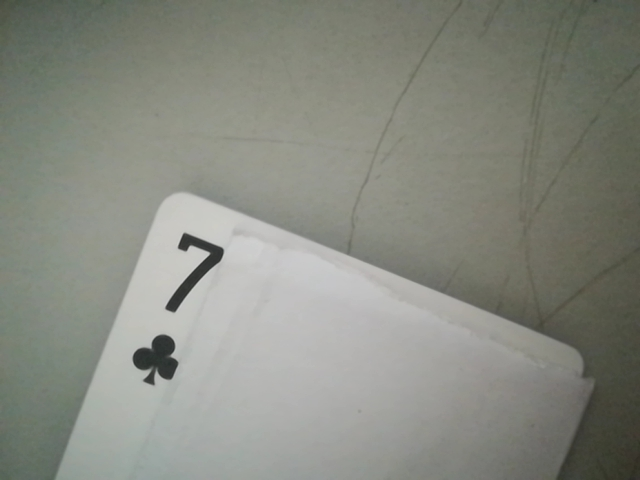mh 7: (126, 225, 228, 391)
